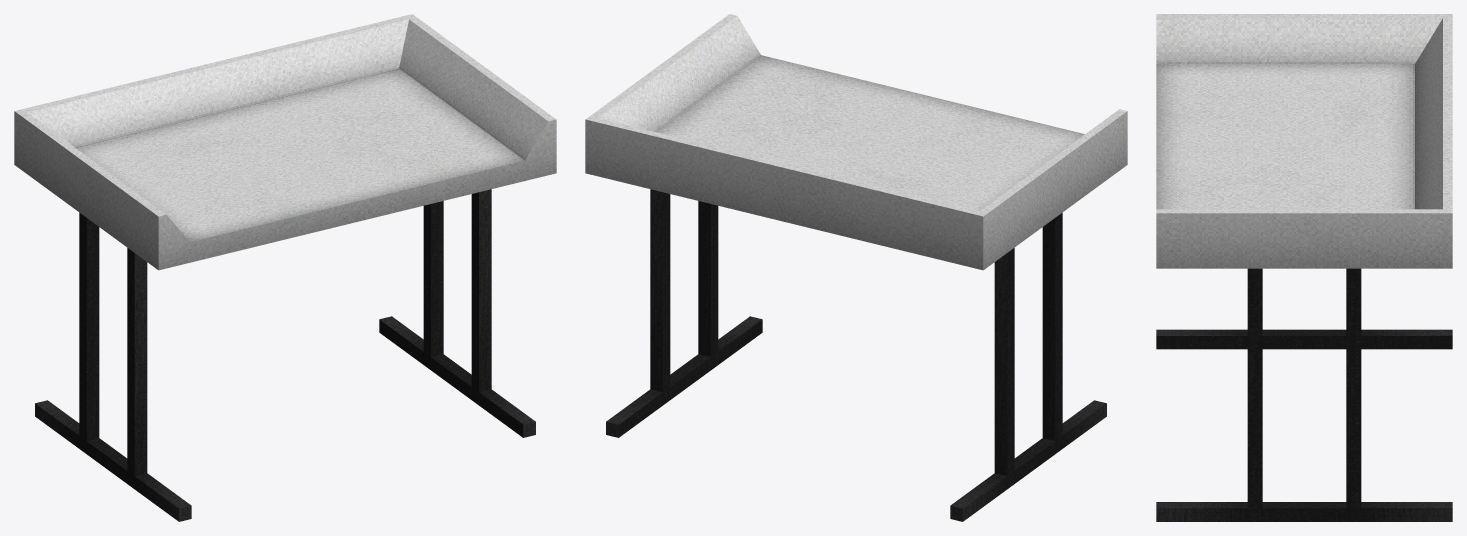
Rendered from folding-table.glb.
The picture shows the model from 3 angles, left to right: view 1: azimuth 30°, elevation 25°; view 2: azimuth 150°, elevation 25°; view 3: azimuth 270°, elevation 25°; orthographic projection. The views are drawn at different scales.
Parts seen in each view (by area): view 1: folding-table-col; view 2: folding-table-col; view 3: folding-table-col.
Boxes of the visible parts, left/top/right/bottom form: folding-table-col: left=14, top=14, right=556, bottom=521; folding-table-col: left=585, top=14, right=1127, bottom=521; folding-table-col: left=1156, top=14, right=1452, bottom=521.
Bounding box in the file's own units: 1.1 × 0.82 × 0.69.
1 material, 1 textured.
